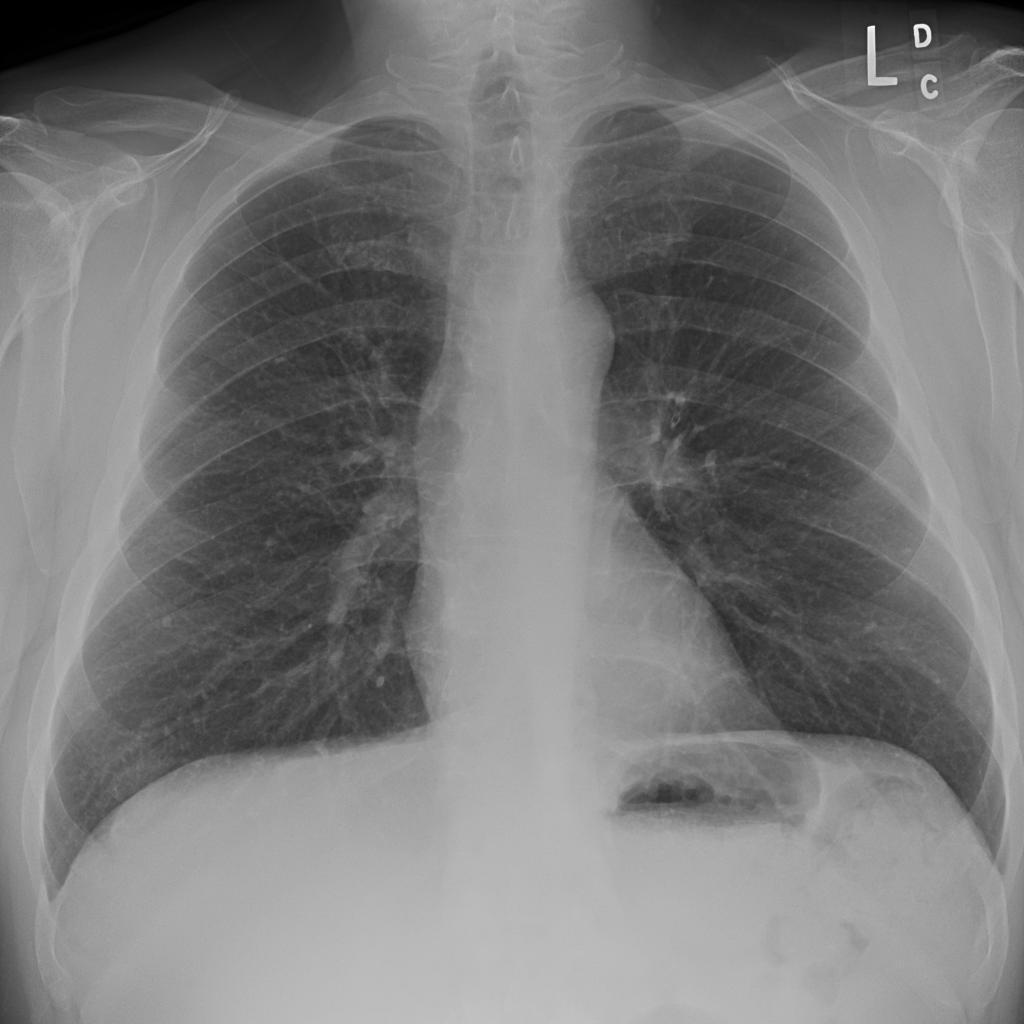Nodule: (132, 275, 170, 318)
